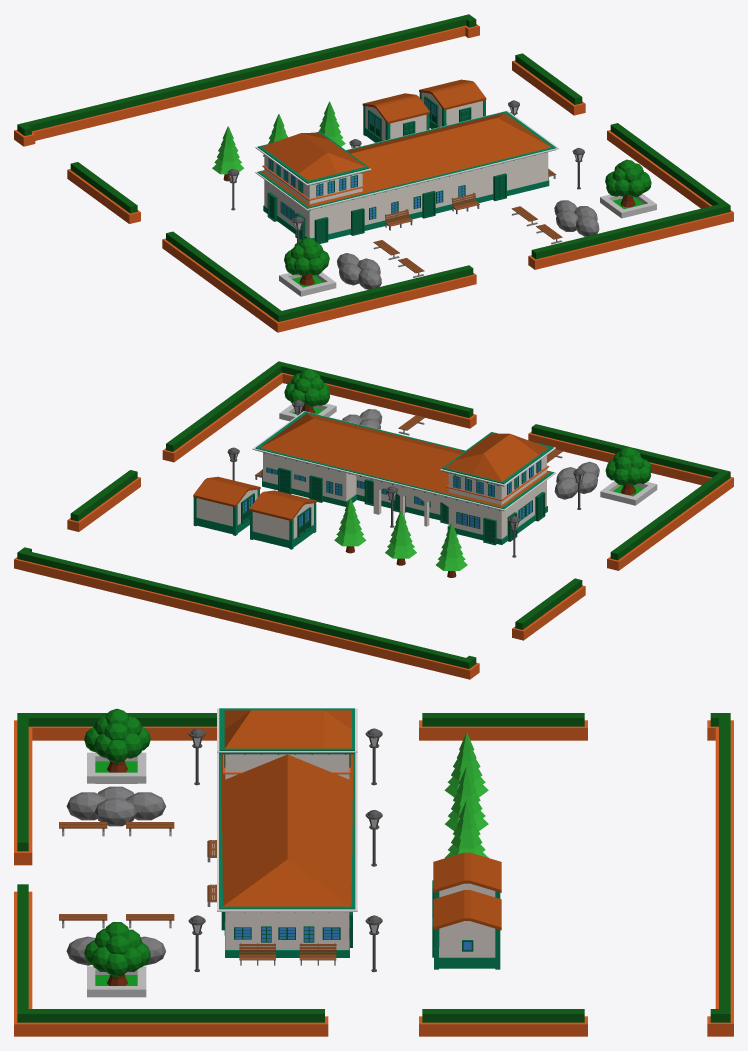
File: Chia-Station-Model.glb
3 renders of one model, top to bottom at view 1: azimuth 30°, elevation 25°; view 2: azimuth 150°, elevation 25°; view 3: azimuth 270°, elevation 25°, orthographic. The views are drawn at different scales.
Parts seen in each view (by area): view 1: Cube.654, muros de la estacion, Cube.659, Plane.020, Cube.653, Plane.019, Cube.682, Cube.703, Cube.708, Cube.738, Cube.650, Icosphere.082 (+5 smaller); view 2: Cube.654, Cube.659, muros de la estacion, Plane.020, Cube.653, Plane.019, Cube.700, Cube.679, Cube.682, Cube.703, Cube.738, Cube.650 (+1 smaller); view 3: Plane.020, Cube.654, Cube.653, muros de la estacion, Cube.659, Plane.019, Cube.679, Cube.703, Cube.682, Icosphere.082, Cube.651, Icosphere.083 (+9 smaller).
Boxes of the visible parts, x1,y1,x2,y2 form: Cube.654: (162,123,733,332); muros de la estacion: (257,111,556,240); Cube.659: (14,14,479,146); Plane.020: (261,113,551,206); Cube.653: (67,53,585,223); Plane.019: (262,132,365,180); Cube.682: (419,79,486,110); Cube.703: (362,93,429,123); Cube.708: (350,173,506,235); Cube.738: (255,110,558,210); Cube.650: (279,194,656,296); Icosphere.082: (358,215,599,289); Cube.654: (162,361,733,570); Cube.659: (14,547,479,679); muros de la estacion: (255,411,554,544); Plane.020: (260,413,549,507); Cube.653: (67,470,585,640); Plane.019: (445,433,548,481); Cube.700: (252,503,314,547); Cube.679: (196,489,257,534); Cube.682: (193,476,260,507); Cube.703: (249,490,316,520); Cube.738: (252,411,555,510); Cube.650: (279,403,657,505); Plane.020: (221,754,353,906); Cube.654: (14,713,328,1036); Cube.653: (419,713,587,1036); muros de la estacion: (219,708,355,957); Cube.659: (707,713,733,1036); Plane.019: (224,710,351,748); Cube.679: (434,921,495,968); Cube.703: (433,852,501,892); Cube.682: (433,890,501,930); Icosphere.082: (66,792,106,965); Cube.651: (95,752,137,997); Icosphere.083: (126,792,166,965).
Size of the model in its own units: 32.22 by 5.97 by 32.27.
